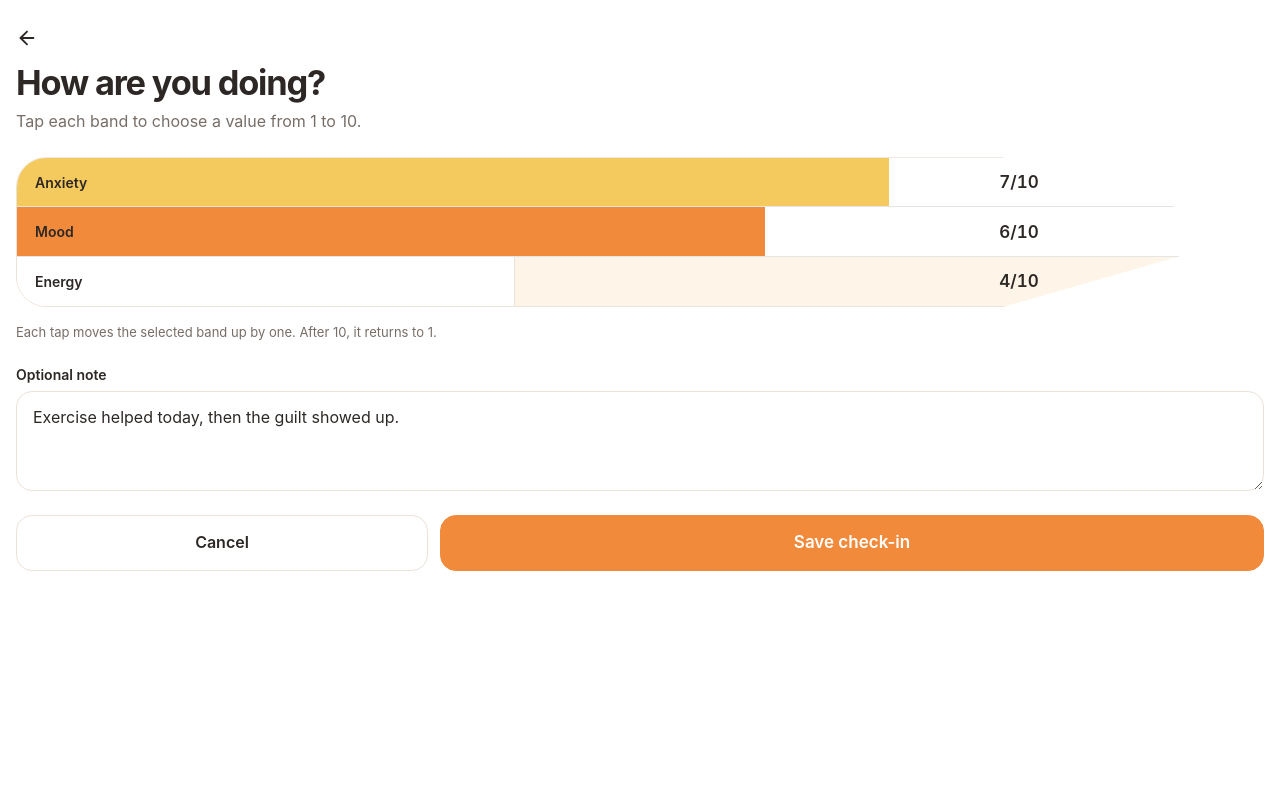
Test: CheckInScreen › cancels without mutating shared mood state
Click the button with aria-label "Mood, 6. Increase value".
click(54, 232)  # box [17,208,1263,257]
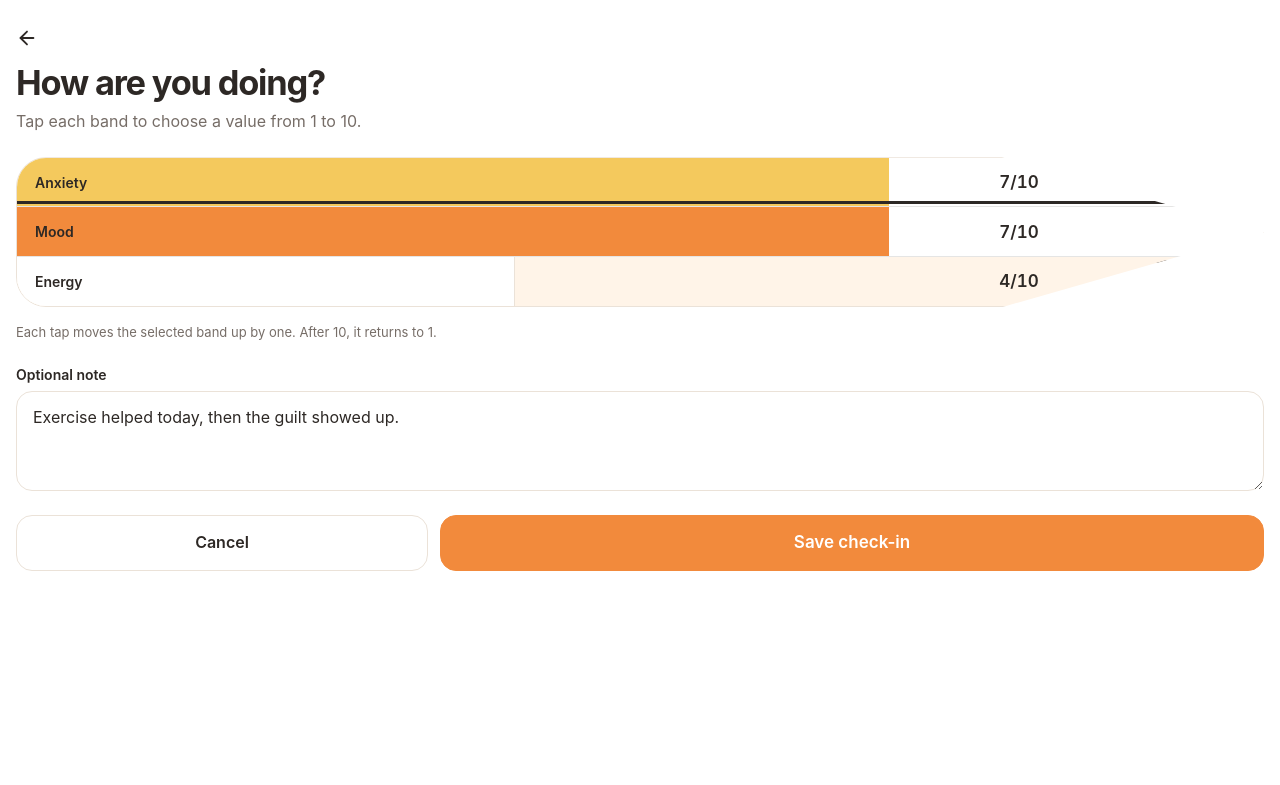
Click the link "Cancel".
click(222, 543)  # box [16,515,428,571]
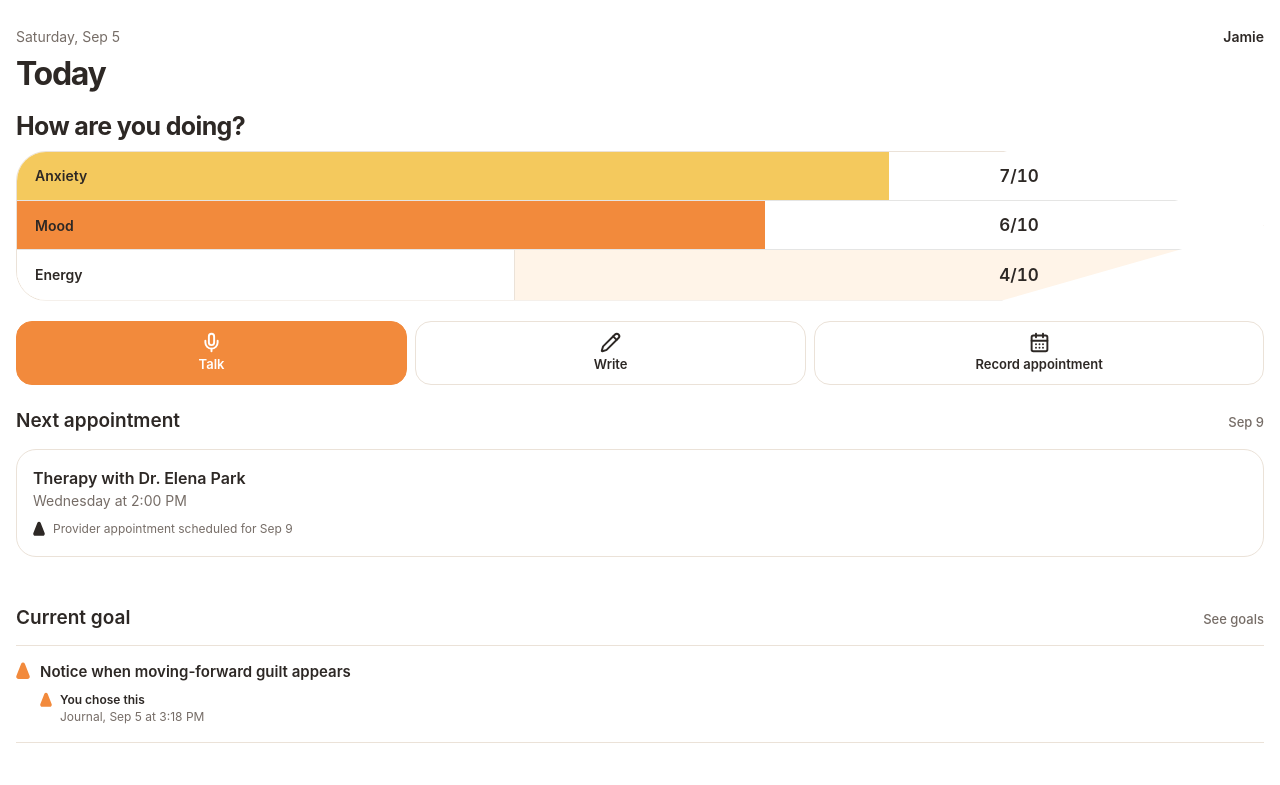
Expected: the text "6/10" is shown, [999,215,1039,235]
